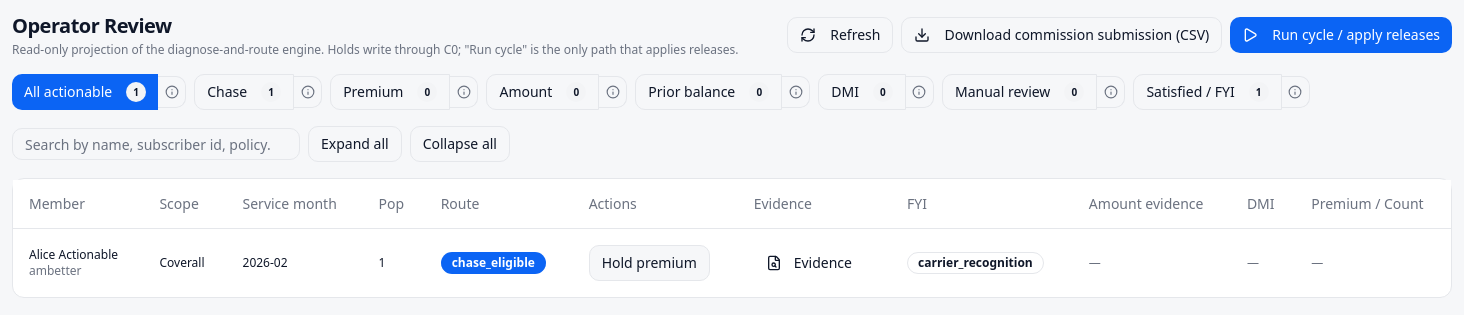
it: OperatorReviewPage — read-only render › toggling "Satisfied / FYI" reveals satisfied rows
The width and height of the screenshot is (1464, 315).
Expected: the text "Alice Actionable" is shown, [29, 246, 118, 262]
Click the button with test id "filter-satisfied": [1208, 92] box [1133, 74, 1282, 110]
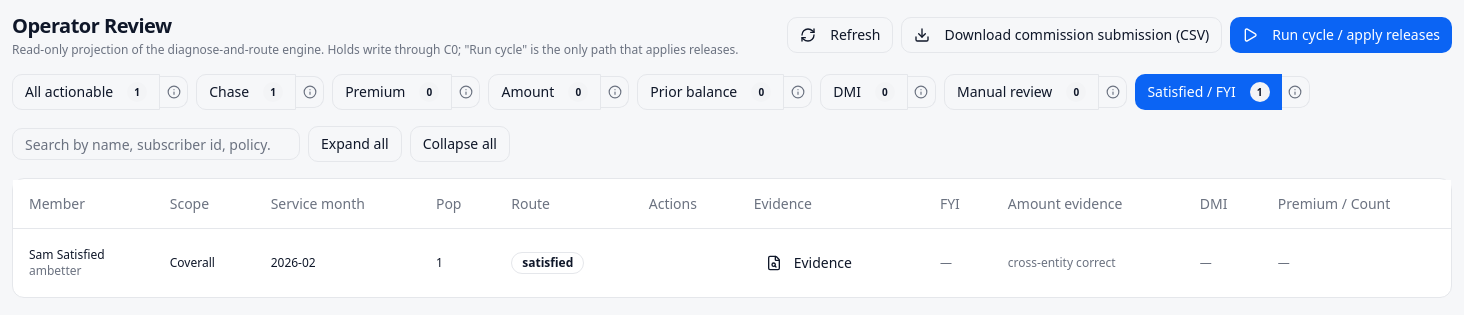
Now the text "Sam Satisfied" is shown, box [29, 246, 104, 262]
Now the text "Alice Actionable" is gone
